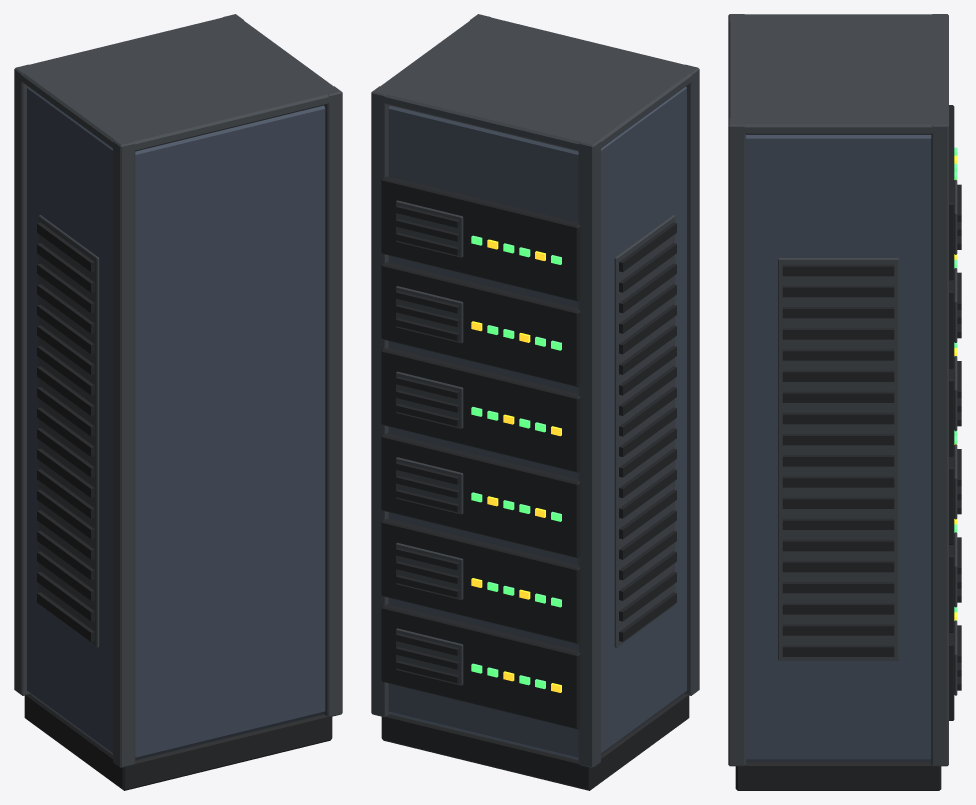
Rendered from flight_computer.glb.
The picture shows the model from 3 angles, left to right: view 1: azimuth 30°, elevation 25°; view 2: azimuth 150°, elevation 25°; view 3: azimuth 270°, elevation 25°; orthographic projection. The views are drawn at different scales.
Parts seen in each view (by area): view 1: flight_computer; view 2: flight_computer; view 3: flight_computer.
Part boxes in pixels (x1,y1,x2,y2): flight_computer: (14, 14, 342, 790); flight_computer: (371, 14, 699, 790); flight_computer: (728, 14, 961, 790).
Bounding box in the file's own units: 0.7 × 1.9 × 0.6.
